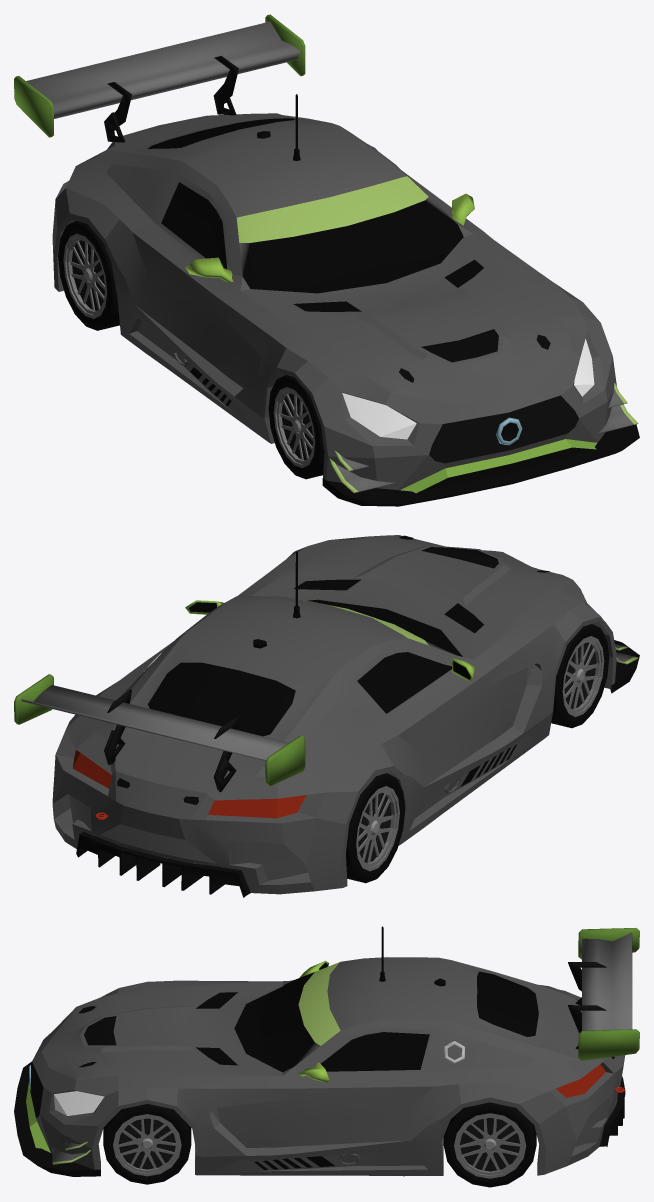
File: tristar-racer.glb
3 views of the same model, one above another, from view 1: azimuth 30°, elevation 25°; view 2: azimuth 150°, elevation 25°; view 3: azimuth 270°, elevation 25° (orthographic). The views are drawn at different scales.
Visible parts, largest first — view 1: body, wheel_rr_stock, wheel_fr_stock, lights, glass; view 2: body, glass, wheel_rr_stock, wheel_fr_stock, lights; view 3: body, glass, wheel_rl_stock, wheel_fl_stock, lights.
Boxes of the visible parts, <box> form: body: <box>14,14,639,506</box>; wheel_rr_stock: <box>58,221,119,330</box>; wheel_fr_stock: <box>268,375,324,479</box>; lights: <box>342,339,594,439</box>; glass: <box>148,118,295,148</box>; body: <box>14,535,639,897</box>; glass: <box>148,662,295,736</box>; wheel_rr_stock: <box>346,773,405,883</box>; wheel_fr_stock: <box>551,624,609,728</box>; lights: <box>72,750,306,818</box>; body: <box>14,926,639,1176</box>; glass: <box>321,971,538,1071</box>; wheel_rl_stock: <box>443,1102,536,1187</box>; wheel_fl_stock: <box>103,1104,191,1184</box>; lights: <box>54,1064,605,1115</box>.
Size of the model in its own units: 1.93 by 1.53 by 4.3.
